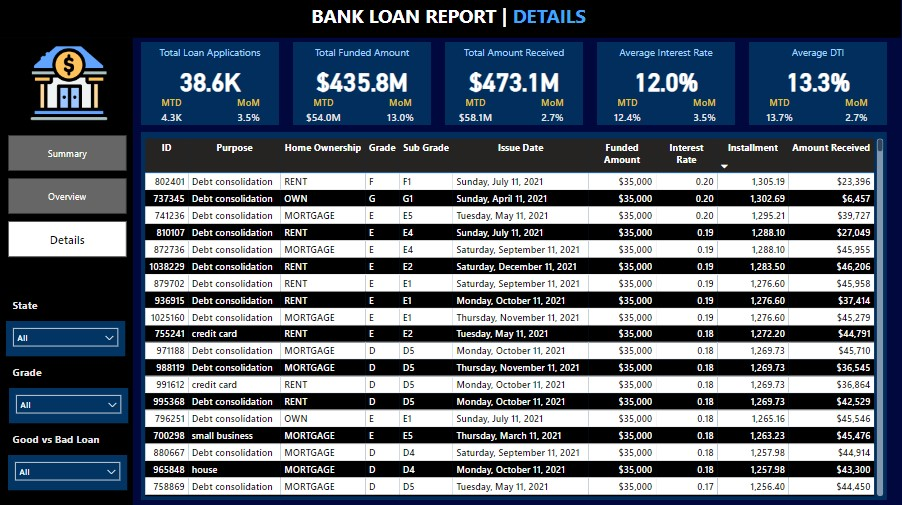

Layout of this report page (visuals, bound fields, positions):
{"tool":"powerbi","page":{"name":"Details","canvas":[1280,720],"ordinal":2},"visuals":[{"type":"shape","box":[202.7,60.9,195.6,117.6],"z":0,"group":"g2"},{"type":"shape","box":[418.1,60.9,195.6,117.6],"z":0,"group":"g1"},{"type":"shape","box":[633.5,60.9,195.6,117.6],"z":0,"group":"g3"},{"type":"shape","box":[849,60.9,195.6,117.6],"z":0,"group":"g4"},{"type":"shape","box":[1064.4,60.9,195.6,117.6],"z":0,"group":"g5"},{"type":"shape","box":[202.7,188.5,1057.3,521.6],"z":0},{"type":"shape","box":[0,55.3,191.3,664.7],"z":1000},{"type":"card","fields":{"Values":["bank_loan_data.Total Loan Applications"]},"box":[225.4,92.1,150.2,45.4],"z":1000,"group":"g2"},{"type":"card","fields":{"Values":["bank_loan_data.Total Funded Amount"]},"box":[440.8,92.1,150.2,45.4],"z":1000,"group":"g1"},{"type":"card","fields":{"Values":["bank_loan_data.Total Amount Received"]},"box":[656.2,92.1,150.2,45.4],"z":1000,"group":"g3"},{"type":"card","fields":{"Values":["bank_loan_data.Avg Interest Rate"]},"box":[871.7,92.1,150.2,45.4],"z":1000,"group":"g4"},{"type":"card","fields":{"Values":["bank_loan_data.Avg DTI"]},"box":[1087.1,92.1,150.2,45.4],"z":1000,"group":"g5"},{"type":"shape","box":[0,0,1279.8,55],"z":2000},{"type":"textbox","box":[214,60.9,172.9,31.2],"z":2000,"group":"g2"},{"type":"textbox","box":[429.4,60.9,172.9,31.2],"z":2000,"group":"g1"},{"type":"textbox","box":[644.8,60.9,172.9,31.2],"z":2000,"group":"g3"},{"type":"textbox","box":[860.3,60.9,172.9,31.2],"z":2000,"group":"g4"},{"type":"textbox","box":[1075.7,60.9,172.9,31.2],"z":2000,"group":"g5"},{"type":"card","title":"MTD","fields":{"Values":["bank_loan_data.MTD Loan Applications"]},"box":[214,137.4,63.8,41.1],"z":3000,"group":"g2"},{"type":"card","title":"MTD","fields":{"Values":["bank_loan_data.MTD Funded Amount"]},"box":[429.4,137.4,63.8,41.1],"z":3000,"group":"g1"},{"type":"card","title":"MTD","fields":{"Values":["bank_loan_data.MTD Total Amount Received"]},"box":[644.8,137.4,63.8,41.1],"z":3000,"group":"g3"},{"type":"card","title":"MTD","fields":{"Values":["bank_loan_data.MTD Avg int Rate"]},"box":[860.3,137.4,63.8,41.1],"z":3000,"group":"g4"},{"type":"card","title":"MTD","fields":{"Values":["bank_loan_data.MTD Avg DTI"]},"box":[1075.7,137.4,63.8,41.1],"z":3000,"group":"g5"},{"type":"textbox","box":[15.6,418.1,58.1,31.2],"z":3000},{"type":"textbox","box":[413.9,0,449.3,46.8],"z":4000},{"type":"card","title":"MoM","fields":{"Values":["bank_loan_data.MoM Loan Applications"]},"box":[323.2,137.4,63.8,41.1],"z":4000,"group":"g2"},{"type":"card","title":"MoM","fields":{"Values":["bank_loan_data.MoM Funded Amount"]},"box":[538.6,137.4,63.8,41.1],"z":4000,"group":"g1"},{"type":"card","title":"MoM","fields":{"Values":["bank_loan_data.MoM Total Amount Received"]},"box":[754,137.4,63.8,41.1],"z":4000,"group":"g3"},{"type":"card","title":"MoM","fields":{"Values":["bank_loan_data.MoM Avg int Rate"]},"box":[969.5,137.4,63.8,41.1],"z":4000,"group":"g4"},{"type":"card","title":"MoM","fields":{"Values":["bank_loan_data.MoM Avg DTI"]},"box":[1184.9,137.4,63.8,41.1],"z":4000,"group":"g5"},{"type":"group","id":"g1","title":"Group 1","box":[418.1,60.9,195.6,117.6],"z":5000},{"type":"group","id":"g2","title":"Group 1","box":[202.7,60.9,195.6,117.6],"z":6000},{"type":"group","id":"g3","title":"Group 1","box":[633.5,60.9,195.6,117.6],"z":7000},{"type":"group","id":"g4","title":"Group 1","box":[849,60.9,195.6,117.6],"z":8000},{"type":"group","id":"g5","title":"Group 1","box":[1064.4,60.9,195.6,117.6],"z":9000},{"type":"slicer","fields":{"Values":["bank_loan_data.address_state"]},"box":[11.3,456.4,168.7,49.6],"z":10000},{"type":"slicer","fields":{"Values":["bank_loan_data.grade"]},"box":[15.6,551.3,168.7,49.6],"z":11000},{"type":"slicer","fields":{"Values":["bank_loan_data.Good Loan vs Bad Loan"]},"box":[14.2,646.3,168.7,49.6],"z":12000},{"type":"textbox","box":[15.6,513.1,75.1,31.2],"z":13000},{"type":"textbox","box":[15.6,608,150.2,31.2],"z":14000},{"type":"tableEx","fields":{"Values":["bank_loan_data.id","bank_loan_data.purpose","bank_loan_data.home_ownership","bank_loan_data.grade","bank_loan_data.sub_grade","bank_loan_data.issue_date","bank_loan_data.Total Funded Amount","Sum(bank_loan_data.int_rate)","Sum(bank_loan_data.installment)","bank_loan_data.Total Amount Received"]},"box":[202.7,192.8,1057.3,517.3],"z":15000},{"type":"pageNavigator","box":[14.2,192.8,168.7,175.7],"z":16000},{"type":"image","box":[32.6,55.3,136.1,127.6],"z":17000}]}

Visuals, with their boxes in screenshot pixels (x1, y1, x2, y2), scaled from the page's 1280x720 canvas onto the 902x505 screenshot:
shape: 143:43:281:125
shape: 295:43:432:125
shape: 446:43:584:125
shape: 598:43:736:125
shape: 750:43:888:125
shape: 143:132:888:498
shape: 0:39:135:504
card - bank_loan_data.Total Loan Applications: 159:65:265:96
card - bank_loan_data.Total Funded Amount: 311:65:416:96
card - bank_loan_data.Total Amount Received: 462:65:568:96
card - bank_loan_data.Avg Interest Rate: 614:65:720:96
card - bank_loan_data.Avg DTI: 766:65:872:96
shape: 0:0:901:39
textbox: 151:43:273:65
textbox: 303:43:424:65
textbox: 454:43:576:65
textbox: 606:43:728:65
textbox: 758:43:880:65
"MTD" card: 151:96:196:125
"MTD" card: 303:96:348:125
"MTD" card: 454:96:499:125
"MTD" card: 606:96:651:125
"MTD" card: 758:96:803:125
textbox: 11:293:52:315
textbox: 292:0:608:33
"MoM" card: 228:96:273:125
"MoM" card: 380:96:425:125
"MoM" card: 531:96:576:125
"MoM" card: 683:96:728:125
"MoM" card: 835:96:880:125
"Group 1" group: 295:43:432:125
"Group 1" group: 143:43:281:125
"Group 1" group: 446:43:584:125
"Group 1" group: 598:43:736:125
"Group 1" group: 750:43:888:125
slicer - bank_loan_data.address_state: 8:320:127:355
slicer - bank_loan_data.grade: 11:387:130:421
slicer - bank_loan_data.Good Loan vs Bad Loan: 10:453:129:488
textbox: 11:360:64:382
textbox: 11:426:117:448
tableEx - bank_loan_data.id x bank_loan_data.purpose: 143:135:888:498
pageNavigator: 10:135:129:258
image: 23:39:119:128
